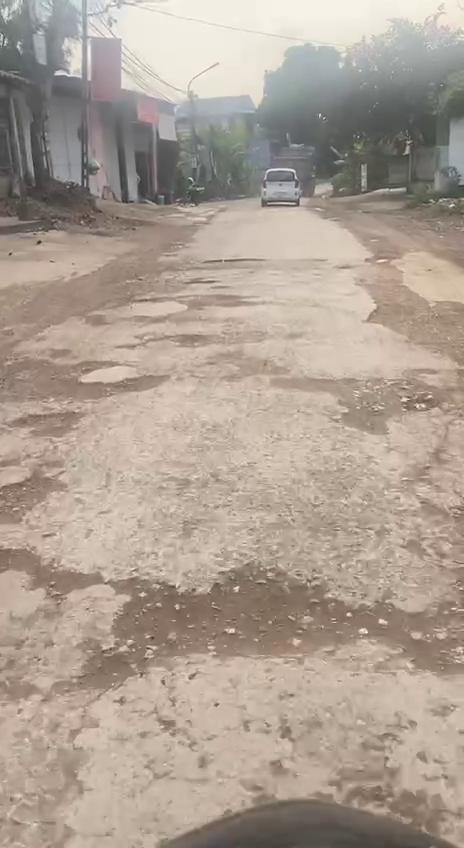pothole: (65, 557, 464, 689), (291, 370, 455, 438), (0, 470, 77, 530), (6, 405, 93, 440)
